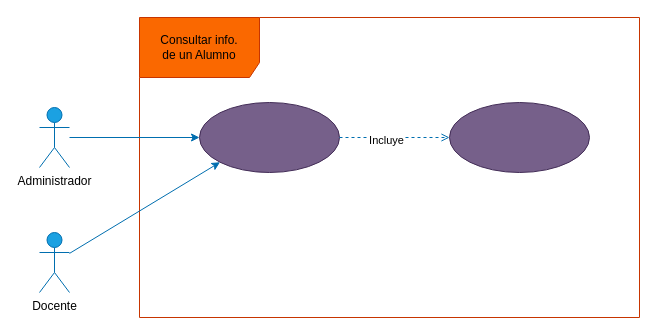
Image size: 657x335. Some labels were removed from this diagram. Each missing label, with the centre of its shape:
"CU02: Visualiza lista" goes at (269,137).
"CU03: Filtra por categoría" goes at (519,137).
